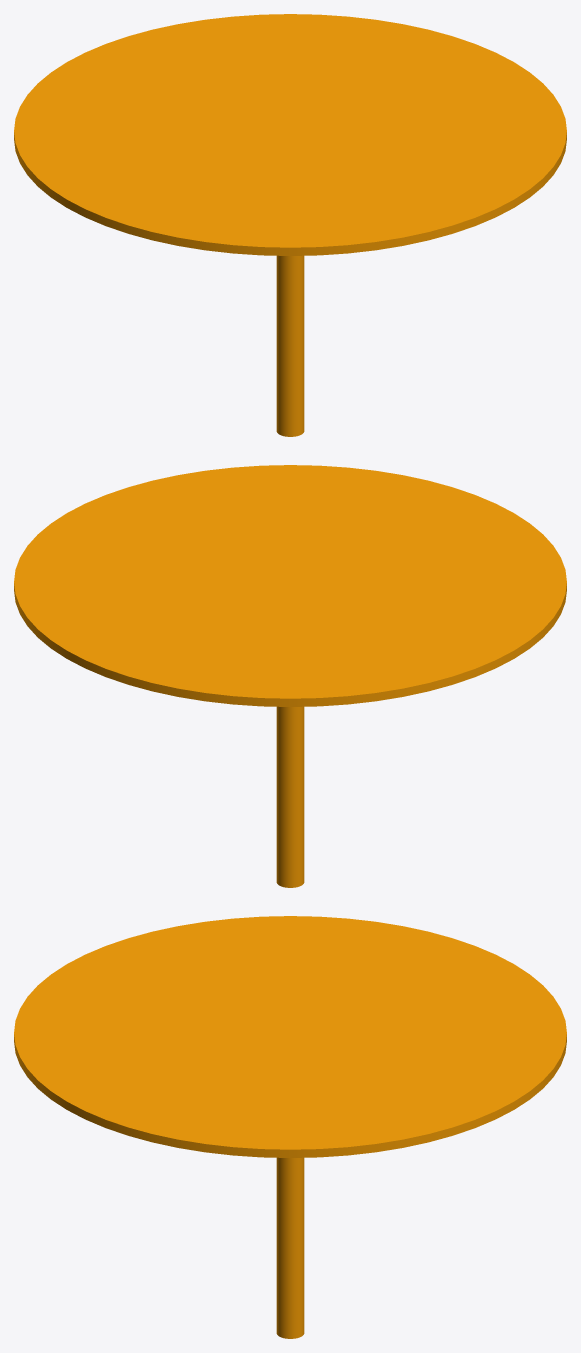
Rendered from base_amarilla.dae.
The picture shows the model from 3 angles, top to bottom: view 1: azimuth 30°, elevation 25°; view 2: azimuth 150°, elevation 25°; view 3: azimuth 270°, elevation 25°; orthographic projection.
Visible parts, largest first — view 1: group_0 (×2); view 2: group_0 (×2); view 3: group_0 (×2).
Boxes of the visible parts, bbox=[...] form: group_0 (×2): bbox=[14, 14, 566, 436]; group_0 (×2): bbox=[14, 465, 566, 887]; group_0 (×2): bbox=[14, 916, 566, 1338].
Bounding box in the file's own units: 23.62 × 23.62 × 14.15.
